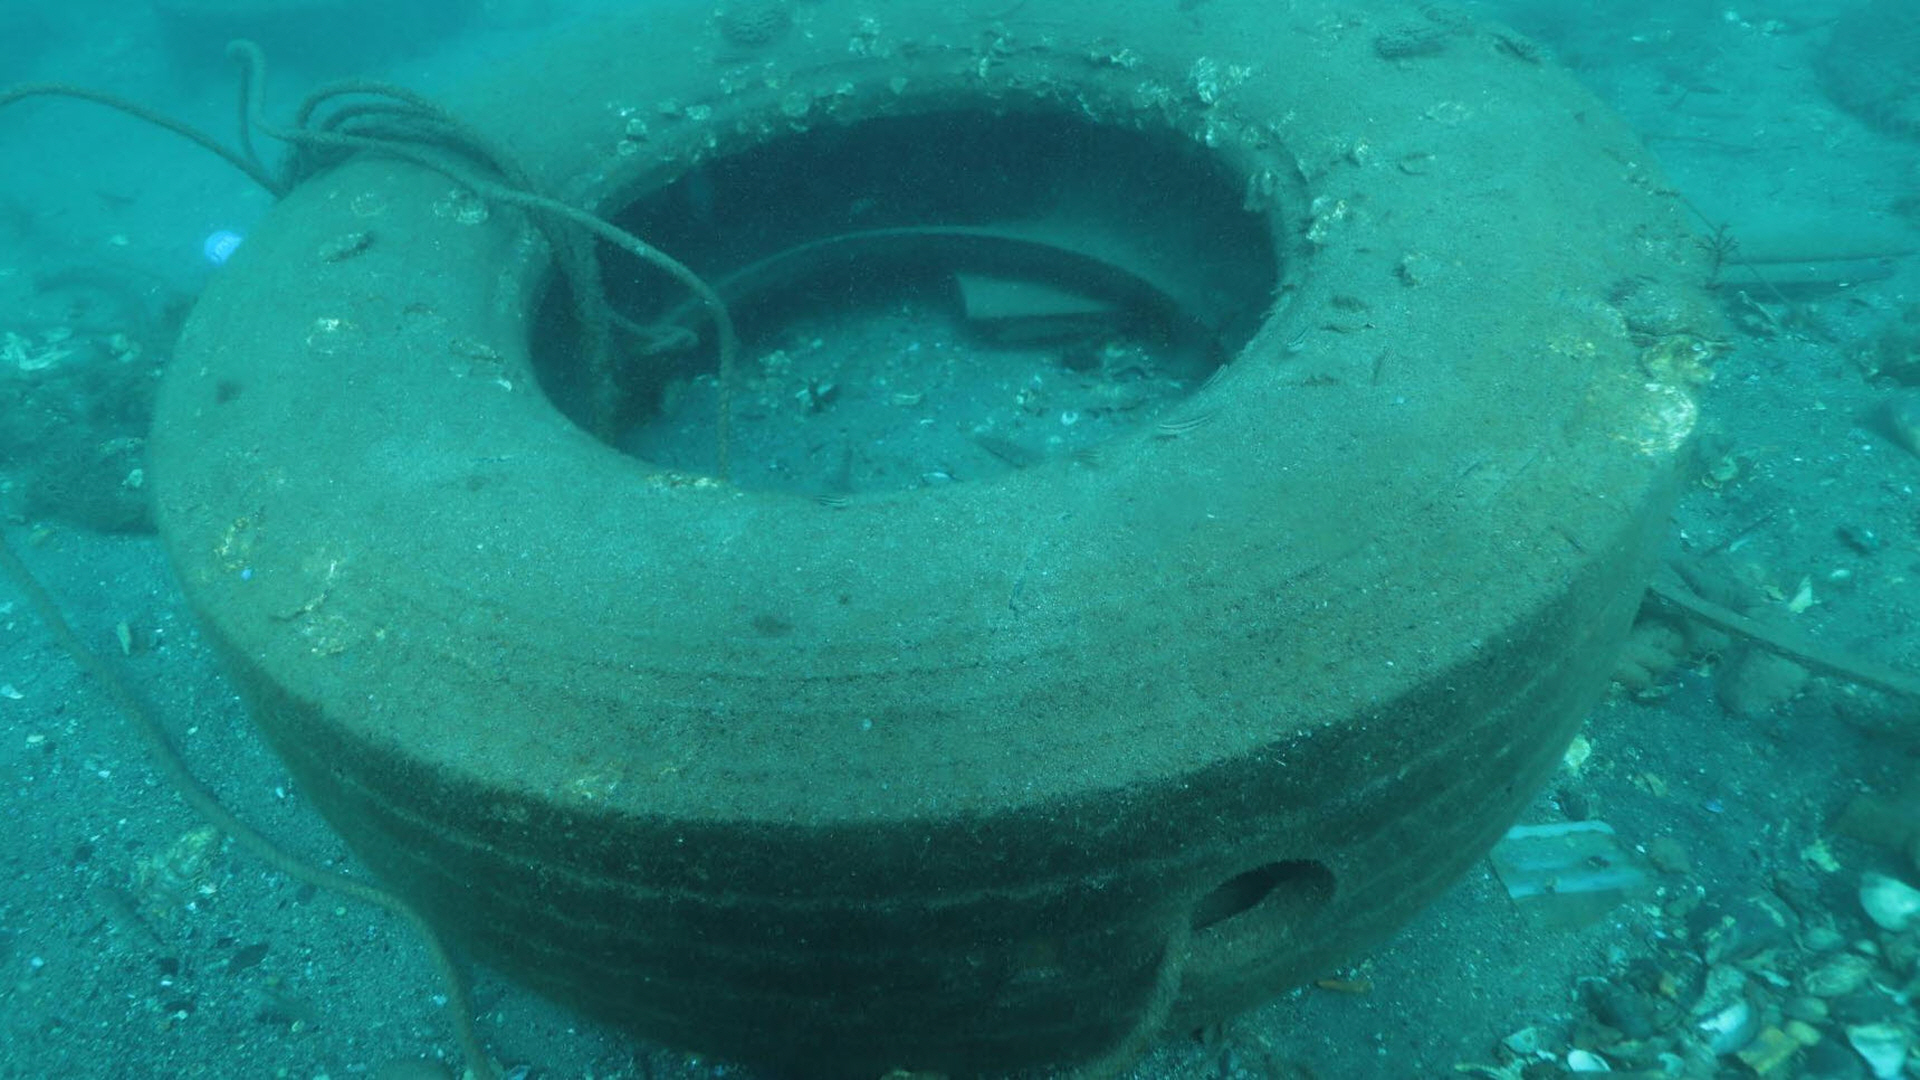bundle of ropes: (0, 30, 732, 484)
rope: (1064, 919, 1203, 1080)
tire: (146, 0, 1701, 1080)
